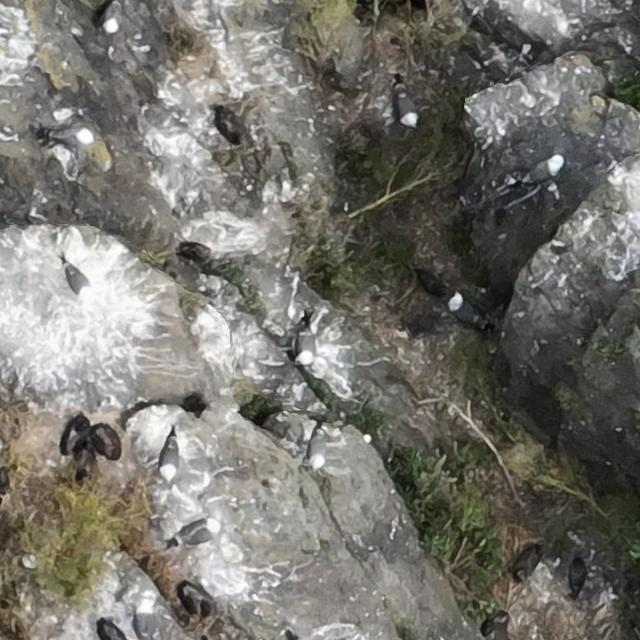umineko: (449, 296, 488, 328), (179, 518, 221, 546), (64, 261, 91, 299), (134, 602, 154, 640), (160, 436, 178, 478), (397, 91, 418, 124), (536, 156, 564, 177), (297, 328, 314, 362), (310, 432, 326, 466), (58, 130, 92, 146), (102, 5, 119, 32)
